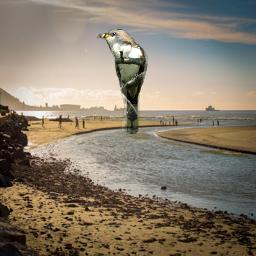Cuckoo: (97, 29, 148, 134)
